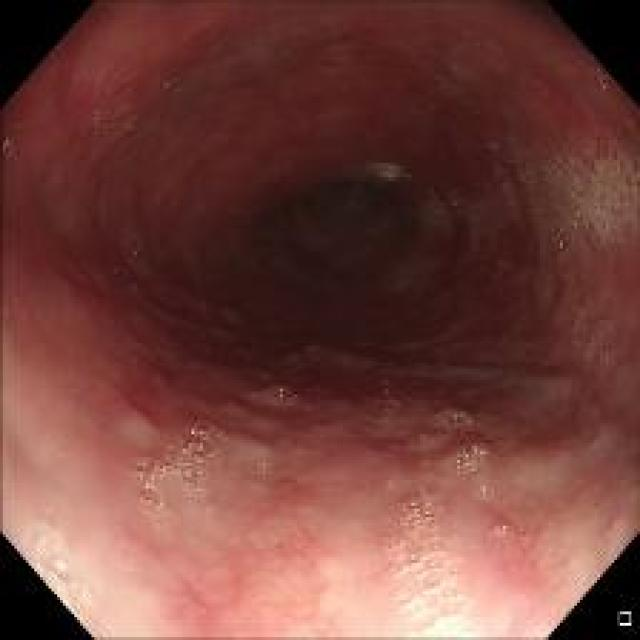bubbles: (500, 135, 636, 268), (386, 485, 476, 638), (124, 421, 234, 516), (418, 174, 542, 245), (436, 398, 495, 486), (554, 270, 600, 358), (38, 555, 75, 591), (598, 346, 631, 376), (265, 371, 290, 402), (409, 430, 442, 450), (224, 395, 241, 416), (488, 524, 512, 538), (252, 459, 271, 476)
contrast: (188, 136, 486, 349)
saturation: (399, 595, 490, 636)
